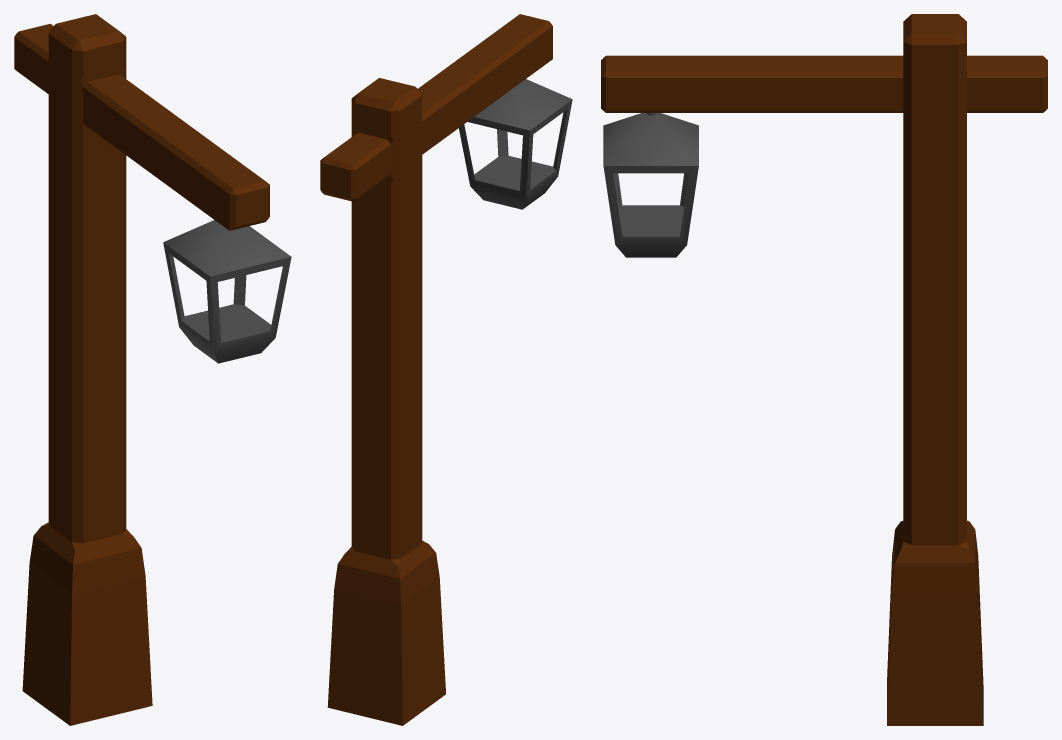
File: Standing Lantern.fbx
3 renders of one model, left to right at view 1: azimuth 30°, elevation 25°; view 2: azimuth 150°, elevation 25°; view 3: azimuth 270°, elevation 25°, orthographic. The views are drawn at different scales.
Parts seen in each view (by area): view 1: Standing_Lantern; view 2: Standing_Lantern; view 3: Standing_Lantern.
Part boxes in pixels (<box>): Standing_Lantern: <box>14,14,291,725</box>; Standing_Lantern: <box>320,14,572,725</box>; Standing_Lantern: <box>601,14,1047,725</box>.
Bounding box in the file's own units: 0.2898 × 2.25 × 1.34.
